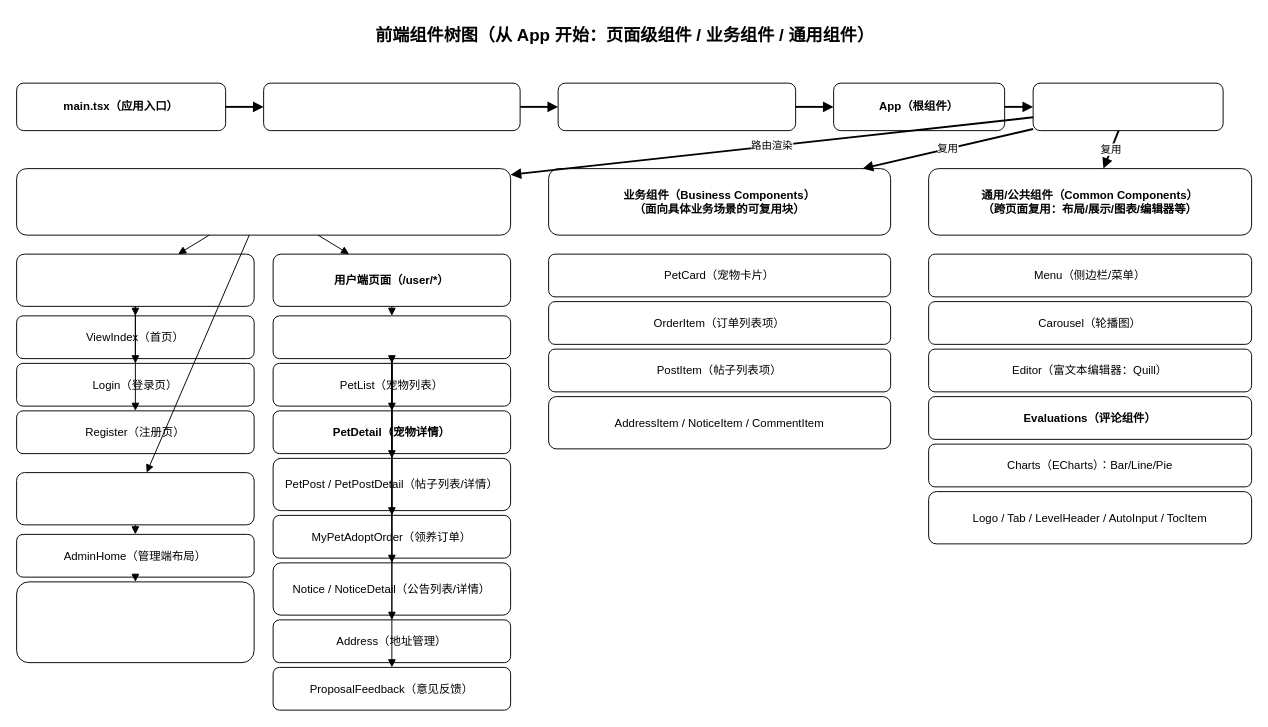
Some shapes in this 1268 by 727 pixel diagram are drawn without their labels. The centre of each missing label's shape, as x and y in pixels:
ConfigProvider（Ant Design 全局配置）: the point at 391,106
Main/仪表盘 + 各管理页 UserManage/PetManage/OrderManage/...: the point at 135,622
Outlet（路由出口）: the point at 1127,106
RouterProvider（React Router）: the point at 676,106
UserMain（用户主页布局）: the point at 391,337
公共页面（无需登录）: the point at 135,279
管理端页面（/admin/*）: the point at 135,498
页面级组件（Views / Pages）: the point at 263,201
